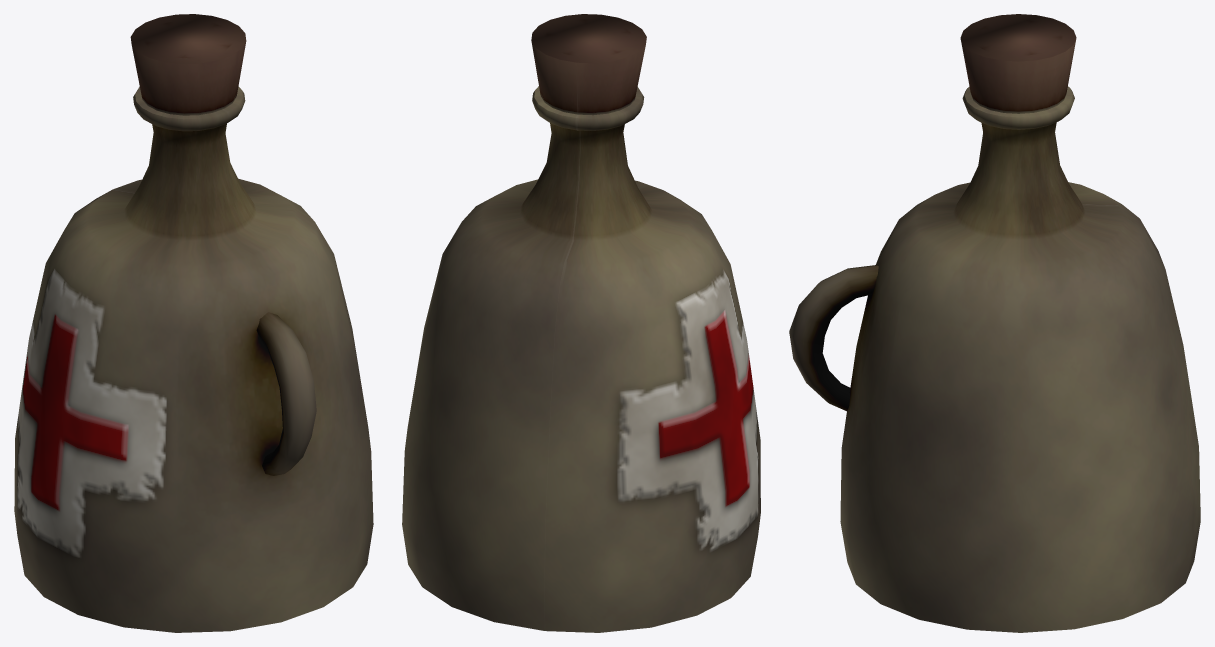
The model's file is HealthPickup.fbx.
The picture shows the model from 3 angles, left to right: view 1: azimuth 30°, elevation 25°; view 2: azimuth 150°, elevation 25°; view 3: azimuth 270°, elevation 25°; orthographic projection.
Visible parts, largest first — view 1: HEALTH_RUM; view 2: HEALTH_RUM; view 3: HEALTH_RUM.
Boxes of the visible parts, x1,y1,x2,y2 form: HEALTH_RUM: (14, 14, 373, 632); HEALTH_RUM: (402, 14, 760, 632); HEALTH_RUM: (789, 14, 1200, 632).
Bounding box in the file's own units: 3.57 × 5.72 × 4.08.
